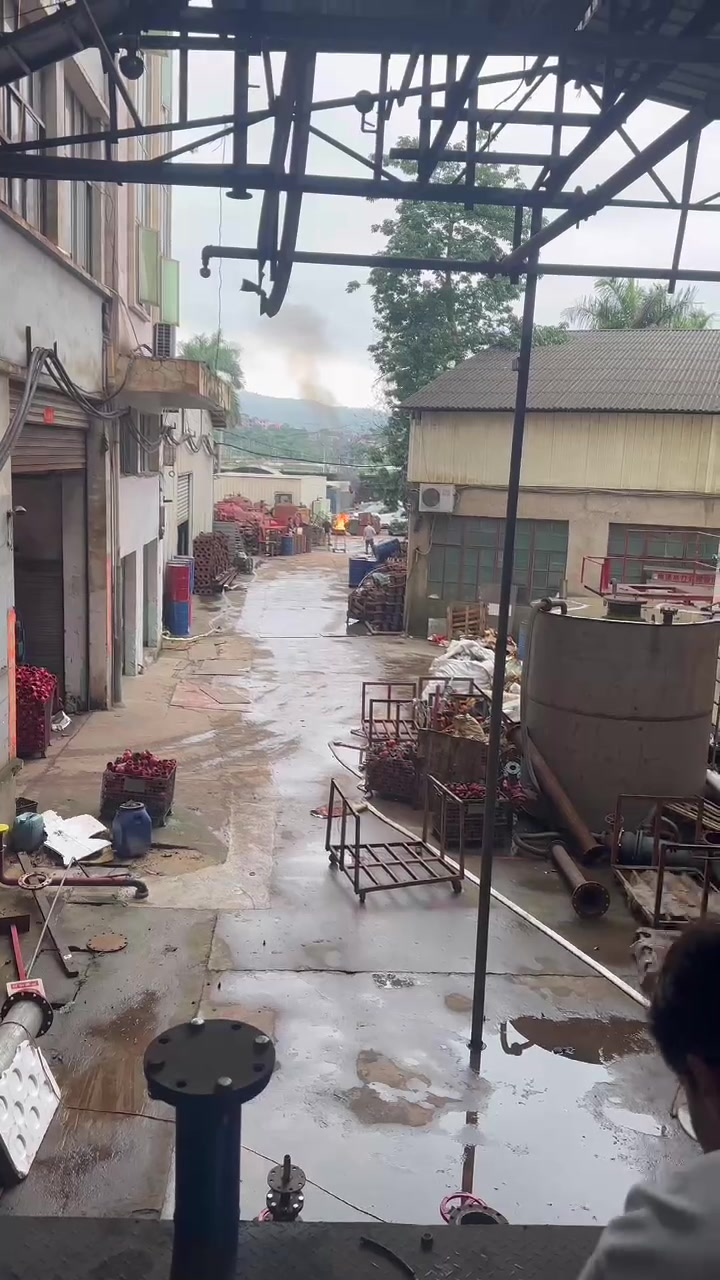fire: (333, 514, 348, 529)
